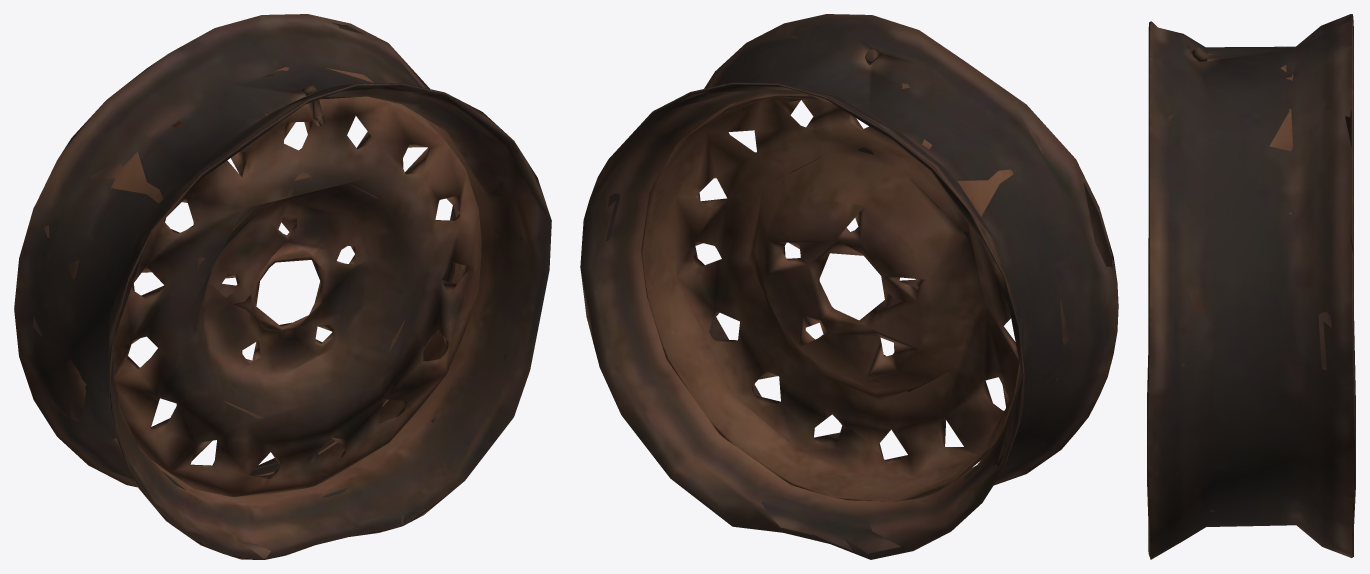
File: rim.glb
3 views of the same model, side by side, from view 1: azimuth 30°, elevation 25°; view 2: azimuth 150°, elevation 25°; view 3: azimuth 270°, elevation 25° (orthographic). The views are drawn at different scales.
Parts seen in each view (by area): view 1: rusted_wheel_rim_01; view 2: rusted_wheel_rim_01; view 3: rusted_wheel_rim_01.
Boxes of the visible parts, x1,y1,x2,y2 form: rusted_wheel_rim_01: (14,14,551,559); rusted_wheel_rim_01: (580,14,1118,559); rusted_wheel_rim_01: (1147,14,1355,559).
Bounding box in the file's own units: 0.4016 × 0.3928 × 0.1524.
Materials: 1 (1 with a texture image).
